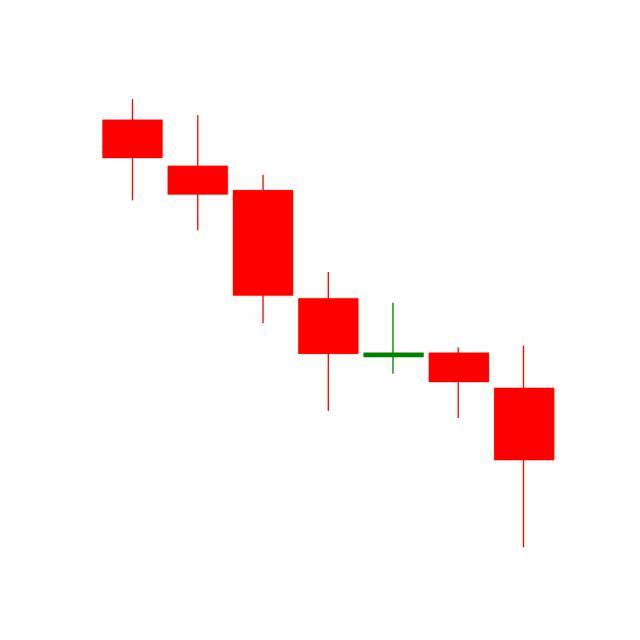Hikkake Pattern: (165, 112, 492, 422)
